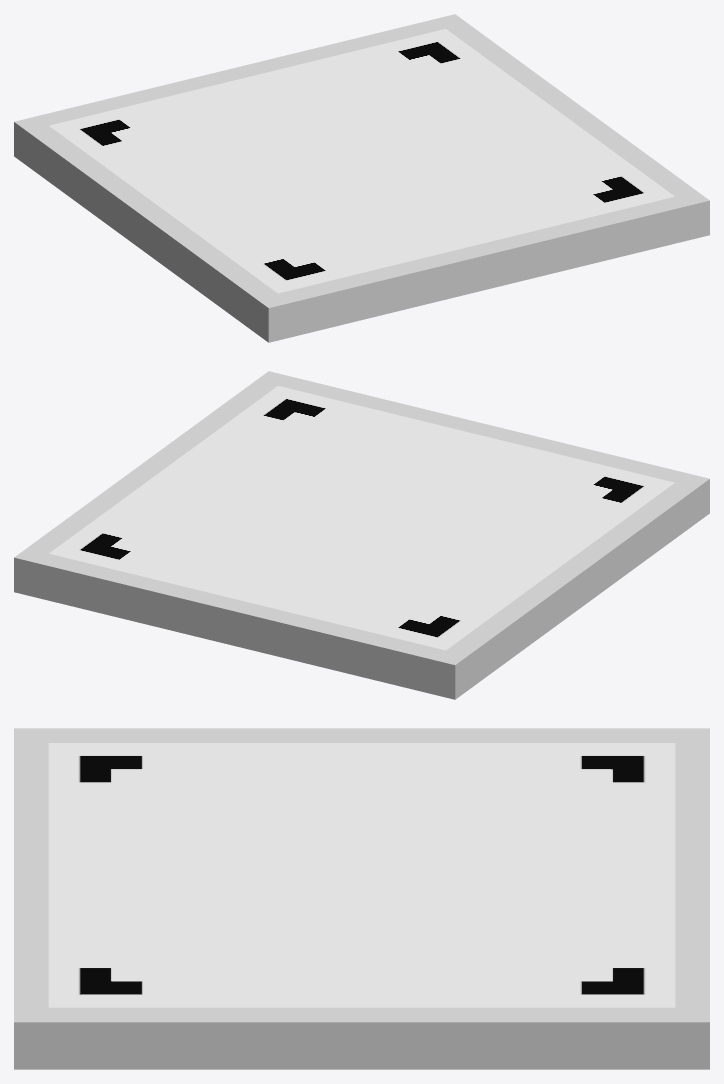
File: Floor_TestChamber_2-1.fbx
The picture shows the model from 3 angles, top to bottom: view 1: azimuth 30°, elevation 25°; view 2: azimuth 150°, elevation 25°; view 3: azimuth 270°, elevation 25°; orthographic projection. The views are drawn at different scales.
Visible parts, largest first — view 1: Floor_TestChamber_2-1; view 2: Floor_TestChamber_2-1; view 3: Floor_TestChamber_2-1.
Part boxes in pixels (x1,y1,x2,y2): Floor_TestChamber_2-1: (14, 14, 709, 342); Floor_TestChamber_2-1: (14, 371, 709, 699); Floor_TestChamber_2-1: (14, 728, 709, 1069).
Size of the model in its own units: 400 by 30 by 400.
3 materials, 1 textured.
